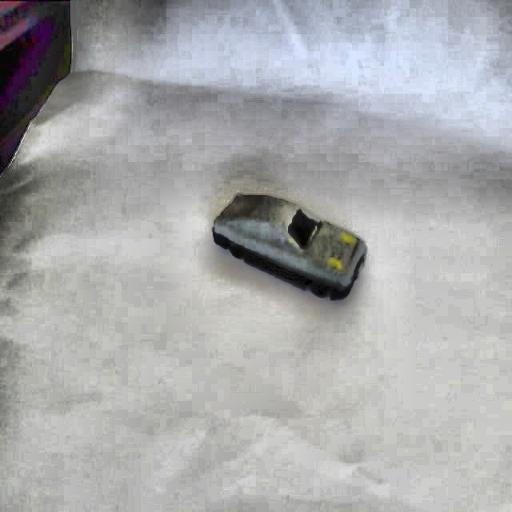normal_car: (208, 189, 366, 302)
